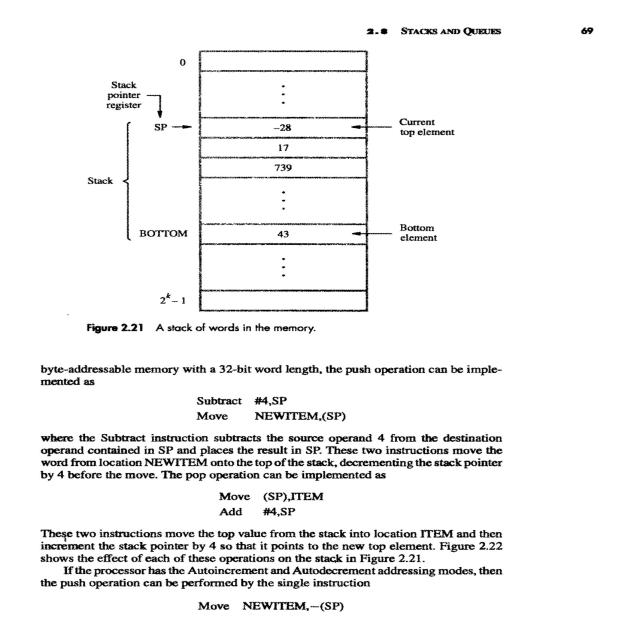diagram: (59, 42, 473, 343)
